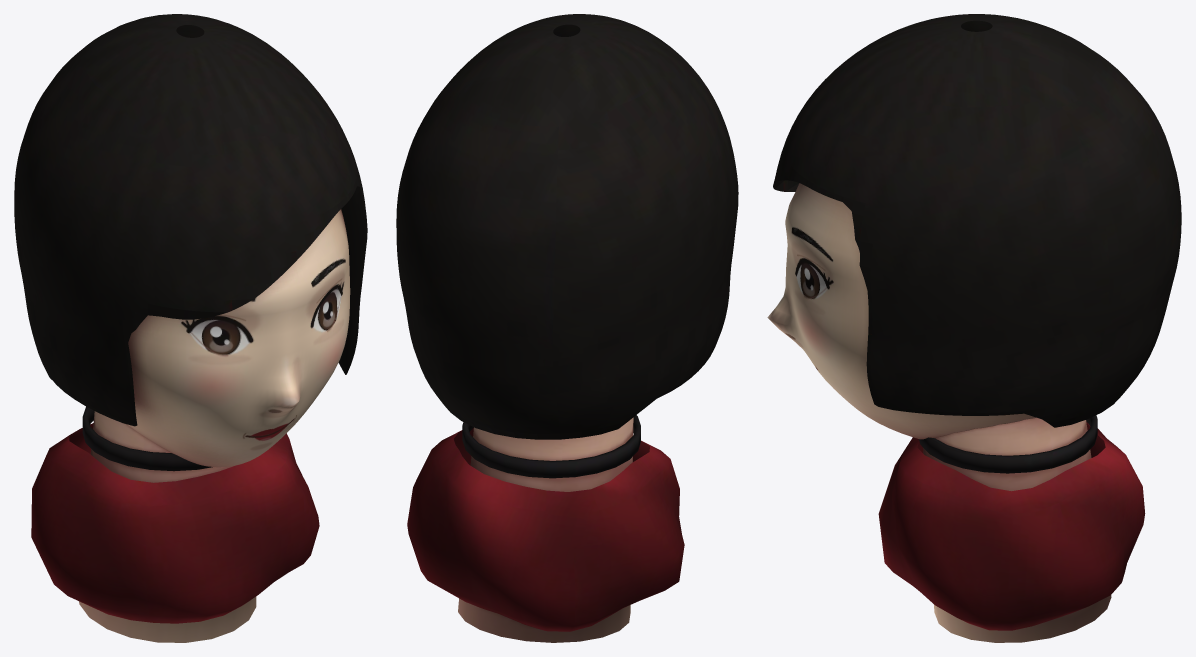
Rendered from cabeza-ada-f.glb.
The picture shows the model from 3 angles, left to right: view 1: azimuth 30°, elevation 25°; view 2: azimuth 150°, elevation 25°; view 3: azimuth 270°, elevation 25°; orthographic projection. The views are drawn at different scales.
Visible parts, largest first — view 1: h_Head; view 2: h_Head; view 3: h_Head.
Boxes of the visible parts, left/top/right/bottom form: h_Head: left=14, top=14, right=367, bottom=642; h_Head: left=396, top=14, right=738, bottom=642; h_Head: left=767, top=14, right=1181, bottom=642.
Bounding box in the file's own units: 0.1744 × 0.3455 × 0.2212.
Materials: 1 (1 with a texture image).
